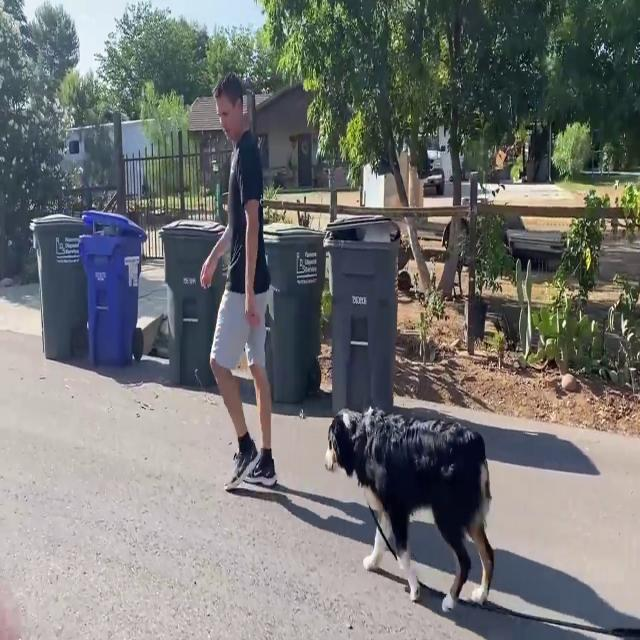Unleashed_Dog: (228, 289, 496, 614)
